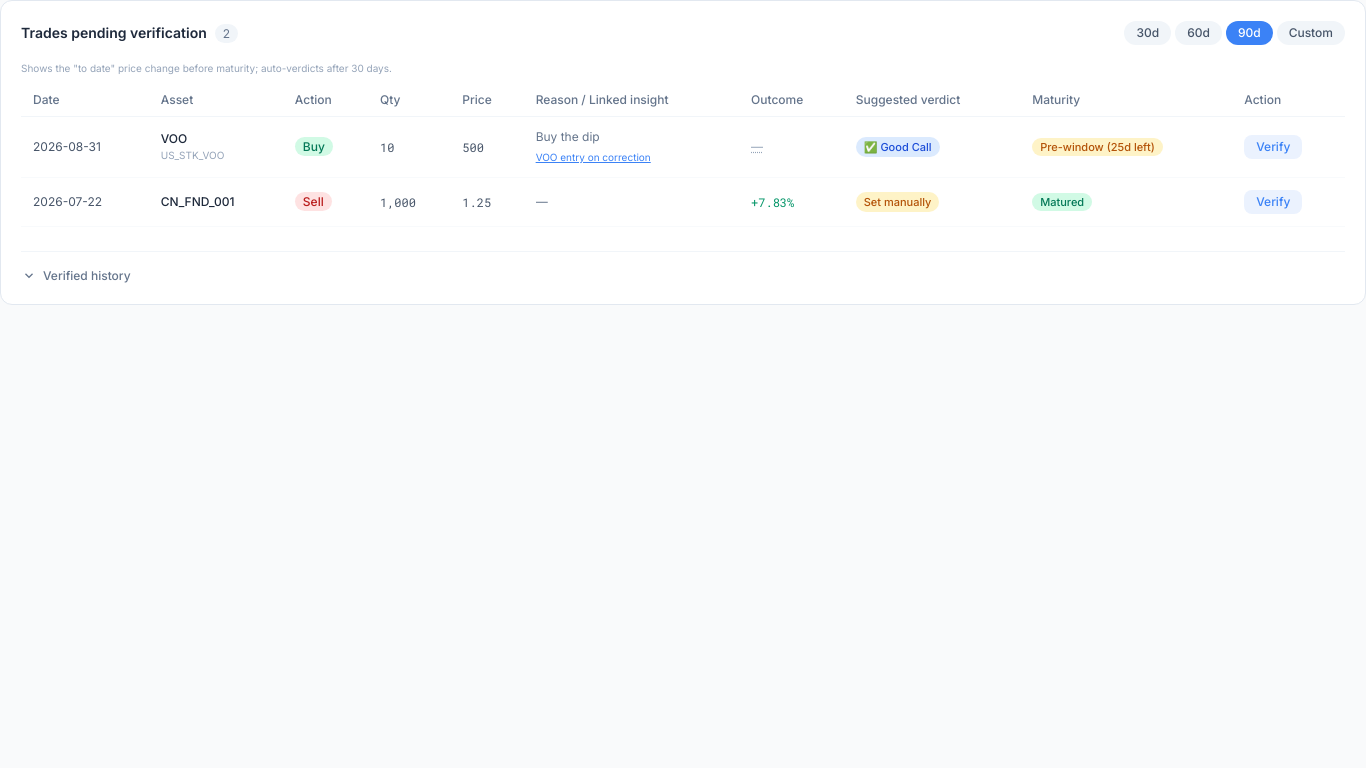
PendingVerificationList › clicking Verify opens modal with pre-filled verdict
The width and height of the screenshot is (1366, 768).
Click the button "Verify" in the row of "2026-08-31" at (1273, 147), box [1244, 135, 1302, 159]
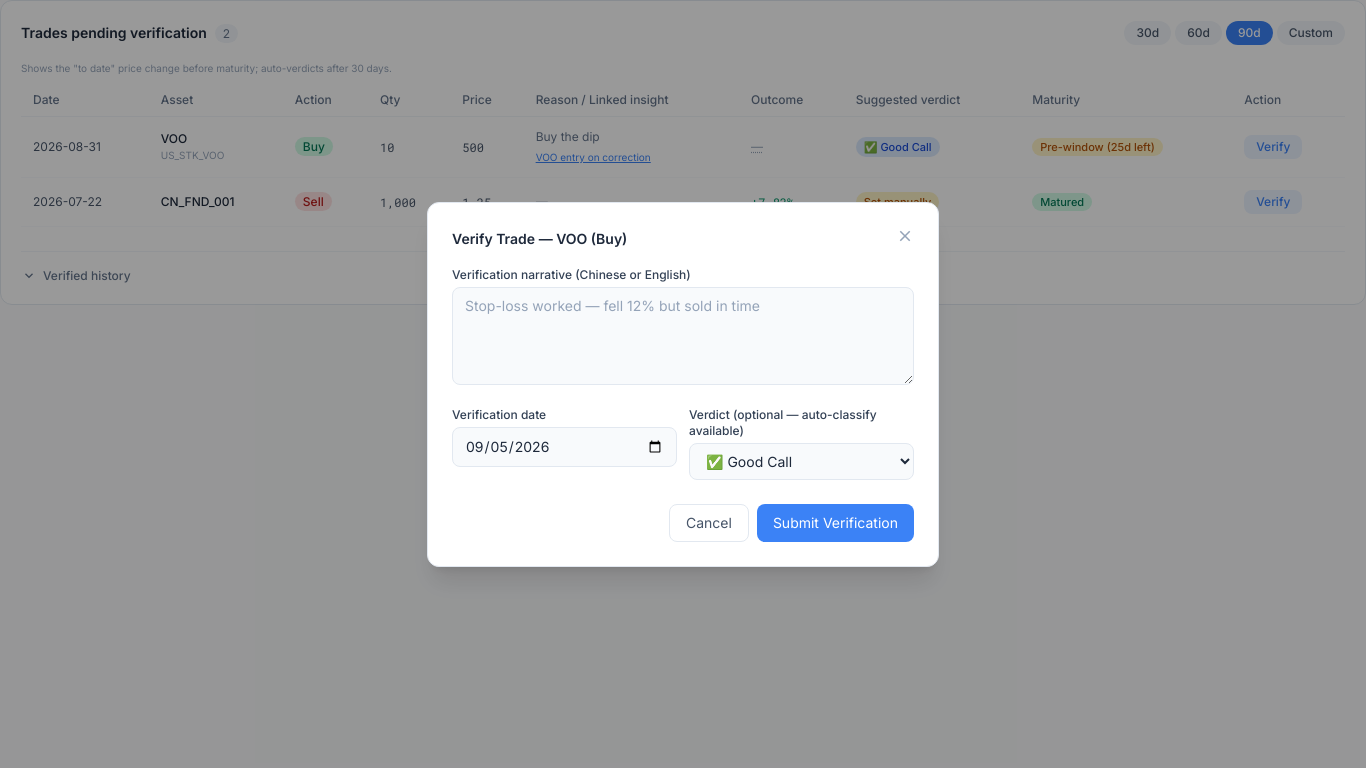
Now the heading "Verify Trade — VOO (Buy)" is shown, box [452, 228, 627, 248]
Now the dropdown shows "✅ Good Call", box [689, 442, 914, 480]
